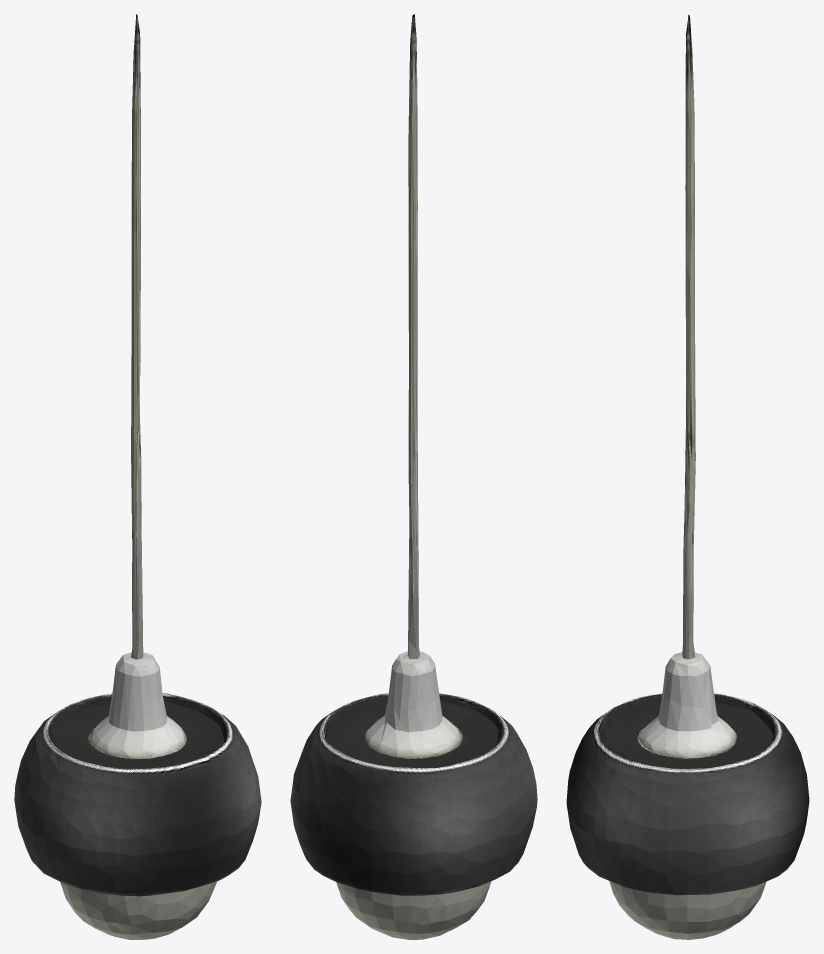
Rendered from ast_0a006f1f3c2d.glb.
The picture shows the model from 3 angles, left to right: view 1: azimuth 30°, elevation 25°; view 2: azimuth 150°, elevation 25°; view 3: azimuth 270°, elevation 25°; orthographic projection.
Visible parts, largest first — view 1: geometry_0; view 2: geometry_0; view 3: geometry_0.
Part boxes in pixels (bbox=[...]): geometry_0: bbox=[14, 14, 261, 939]; geometry_0: bbox=[290, 14, 537, 939]; geometry_0: bbox=[566, 14, 809, 939].
Size of the model in its own units: 0.2401 by 0.9994 by 0.2399.
Materials: 1 (1 with a texture image).
